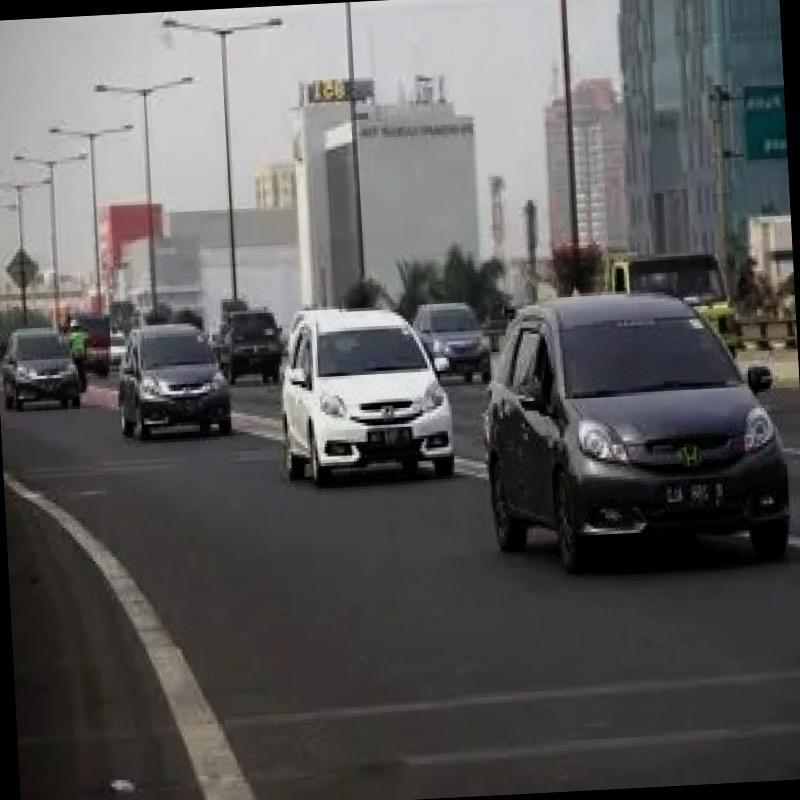license plate on a car: (655, 475, 726, 520), (363, 417, 413, 458)
